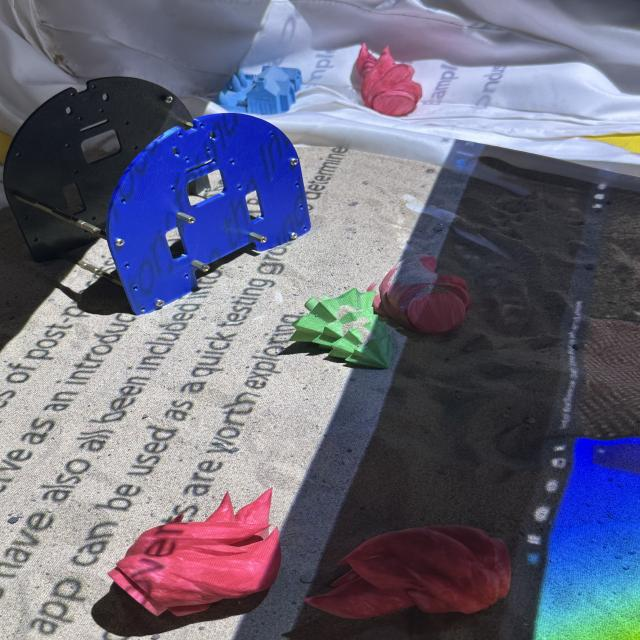fire: (107, 487, 282, 618), (302, 525, 512, 622), (385, 252, 472, 338), (355, 42, 425, 117)
house: (214, 65, 308, 111)
tree: (289, 287, 392, 369)
